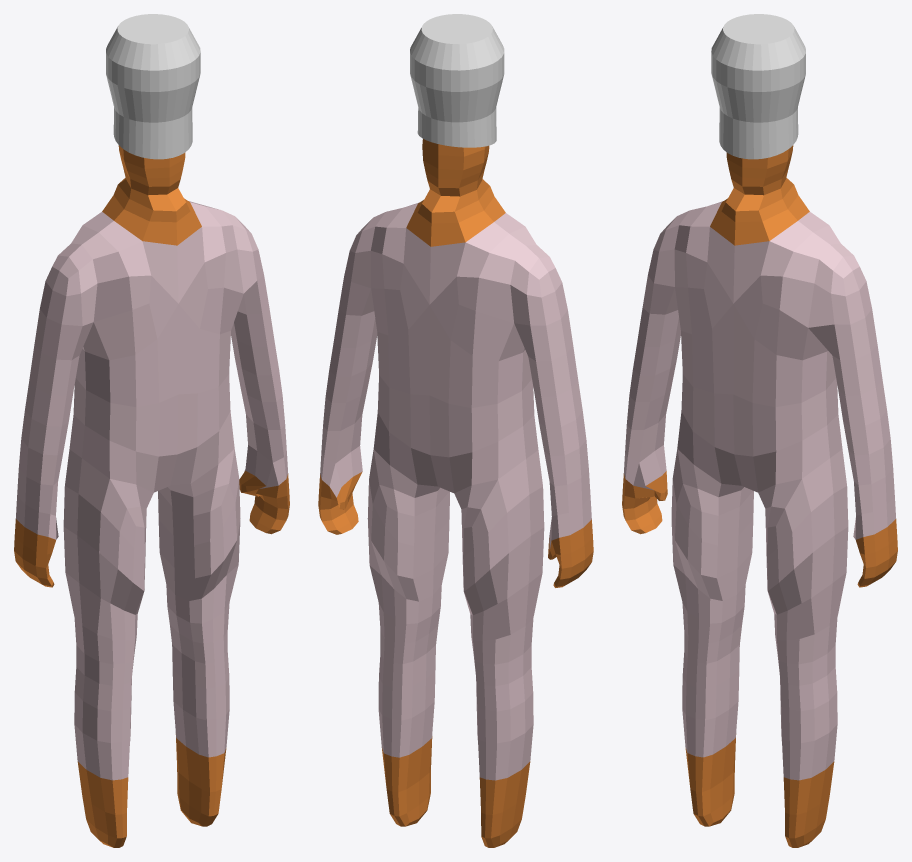
File: Cheff.fbx
The picture shows the model from 3 angles, left to right: view 1: azimuth 30°, elevation 25°; view 2: azimuth 150°, elevation 25°; view 3: azimuth 330°, elevation 25°; orthographic projection.
Visible parts, largest first — view 1: Plane, Cylinder; view 2: Plane, Cylinder; view 3: Plane, Cylinder.
Boxes of the visible parts, x1=… form: Plane: x1=14, y1=145, x2=289, y2=847; Cylinder: x1=106, y1=14, x2=200, y2=159; Plane: x1=318, y1=139, x2=593, y2=847; Cylinder: x1=410, y1=14, x2=504, y2=147; Plane: x1=622, y1=145, x2=897, y2=847; Cylinder: x1=711, y1=14, x2=805, y2=159.
Size of the model in its own units: 478 by 1421 by 170.
